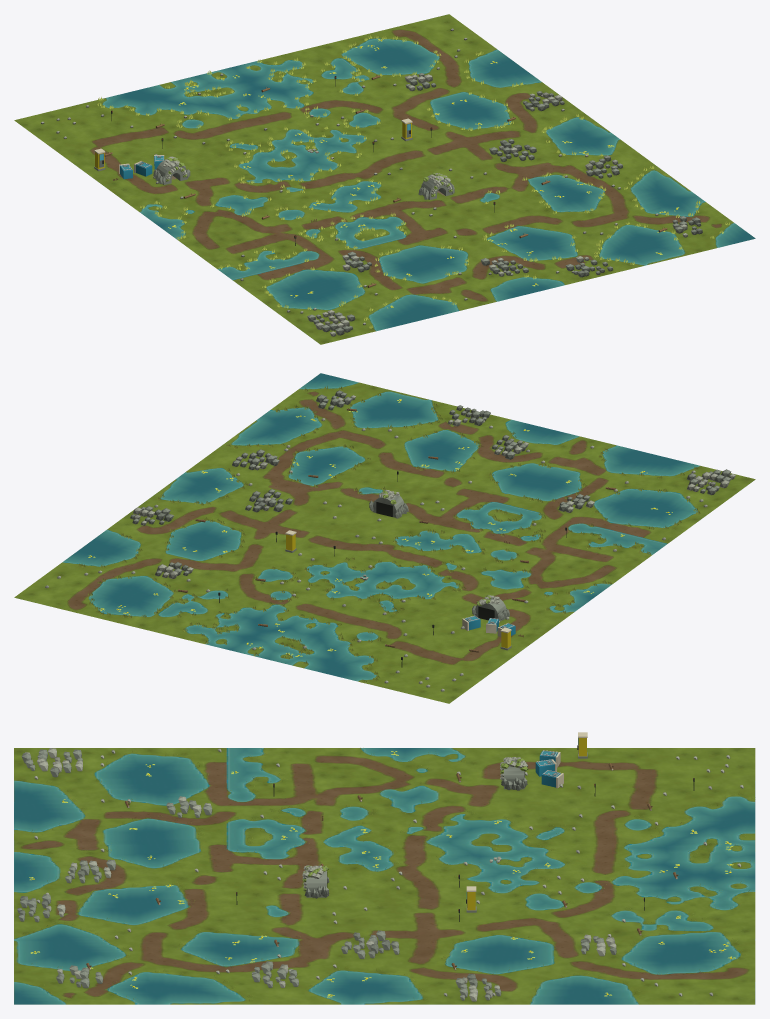
The model's file is terrain-props.glb.
3 views of the same model, one above another, from view 1: azimuth 30°, elevation 25°; view 2: azimuth 150°, elevation 25°; view 3: azimuth 270°, elevation 25° (orthographic). The views are drawn at different scales.
Parts seen in each view (by area): view 1: hm05-flat-authored-ground-water-road-tessellation, hm05_fixed_landmarks_shore_plants; view 2: hm05-flat-authored-ground-water-road-tessellation, hm05_fixed_landmarks_shore_plants; view 3: hm05-flat-authored-ground-water-road-tessellation, hm05_fixed_landmarks_shore_plants.
Part boxes in pixels (x1,y1,x2,y2): hm05-flat-authored-ground-water-road-tessellation: [14, 14, 755, 344]; hm05_fixed_landmarks_shore_plants: [41, 28, 729, 336]; hm05-flat-authored-ground-water-road-tessellation: [14, 373, 755, 703]; hm05_fixed_landmarks_shore_plants: [45, 386, 735, 691]; hm05-flat-authored-ground-water-road-tessellation: [14, 748, 755, 1004]; hm05_fixed_landmarks_shore_plants: [17, 732, 754, 1001].
Bounding box in the file's own units: 64 × 2.99 × 78.21.
3 materials, 2 textured.
